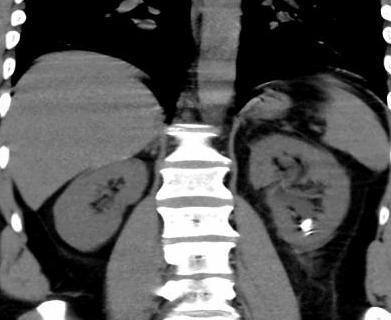Tas_Var: (300, 218, 312, 231), (304, 231, 319, 237)
